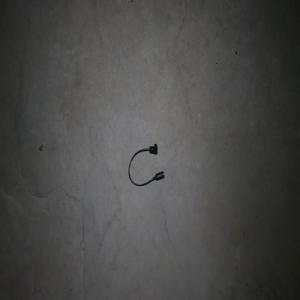Wire: (128, 143, 164, 186)
